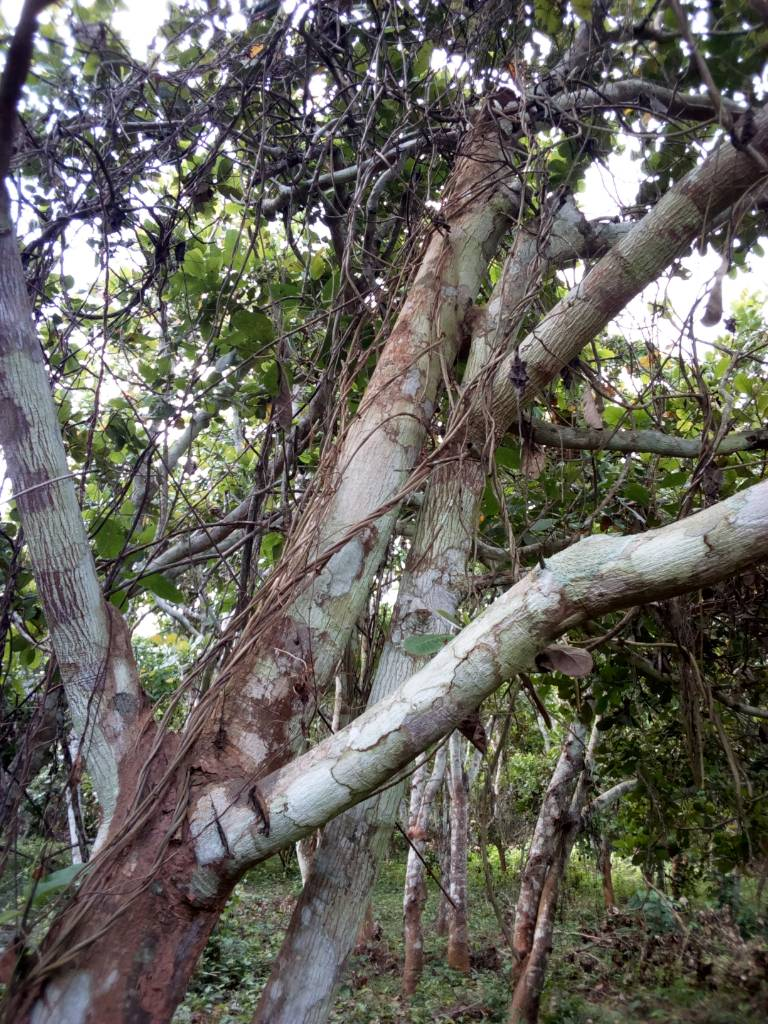Termites: (77, 725, 227, 1024)
